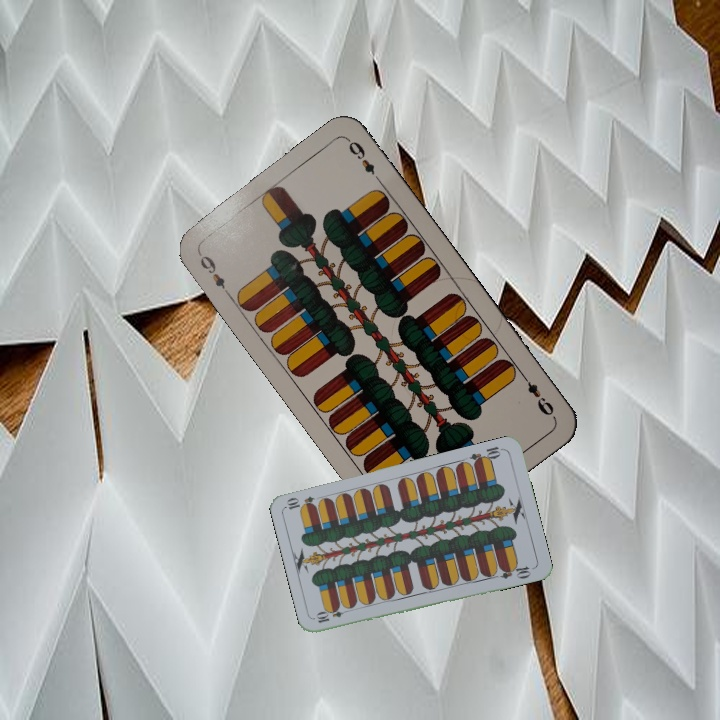E10: (466, 442, 506, 468), (312, 604, 353, 626)
E9: (517, 369, 558, 420), (193, 248, 233, 299)
